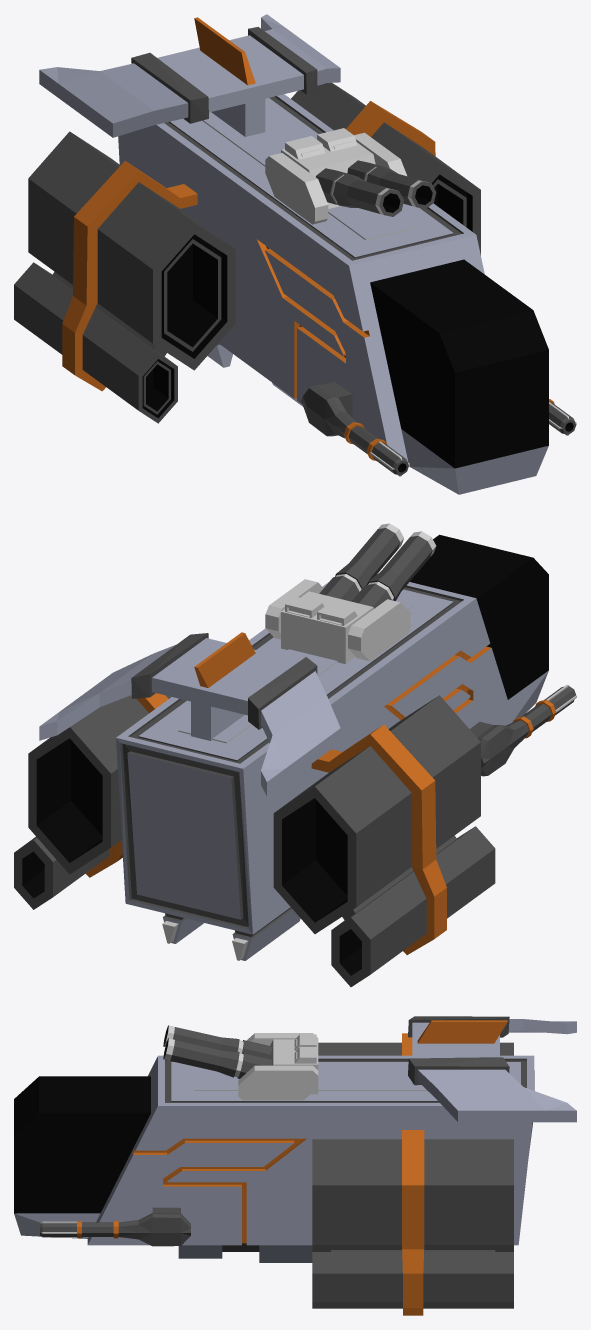
The model's file is Spaceship15_4.fbx.
The picture shows the model from 3 angles, top to bottom: view 1: azimuth 30°, elevation 25°; view 2: azimuth 150°, elevation 25°; view 3: azimuth 270°, elevation 25°; orthographic projection. The views are drawn at different scales.
Parts seen in each view (by area): view 1: Spaceship15_4; view 2: Spaceship15_4; view 3: Spaceship15_4.
Part boxes in pixels (x1,y1,x2,y2): Spaceship15_4: (14, 14, 576, 494); Spaceship15_4: (14, 523, 576, 986); Spaceship15_4: (14, 1016, 576, 1315).
Size of the model in its own units: 1927 by 1450 by 3131.
